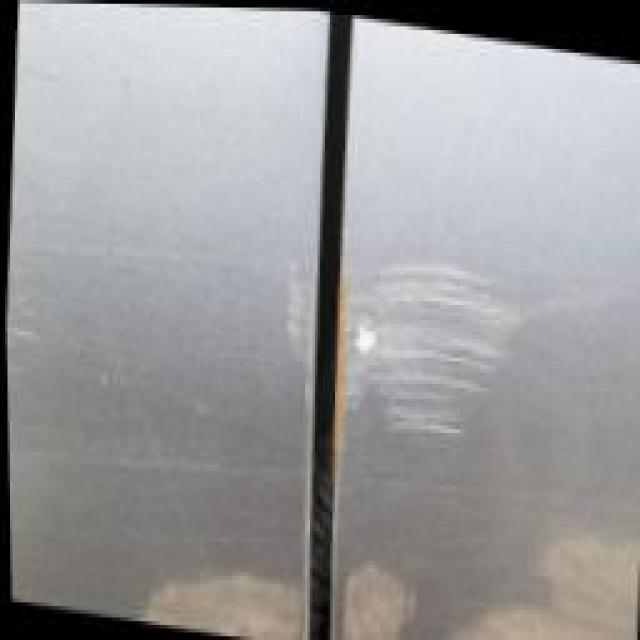Door: (2, 83, 336, 640), (318, 124, 546, 639)
